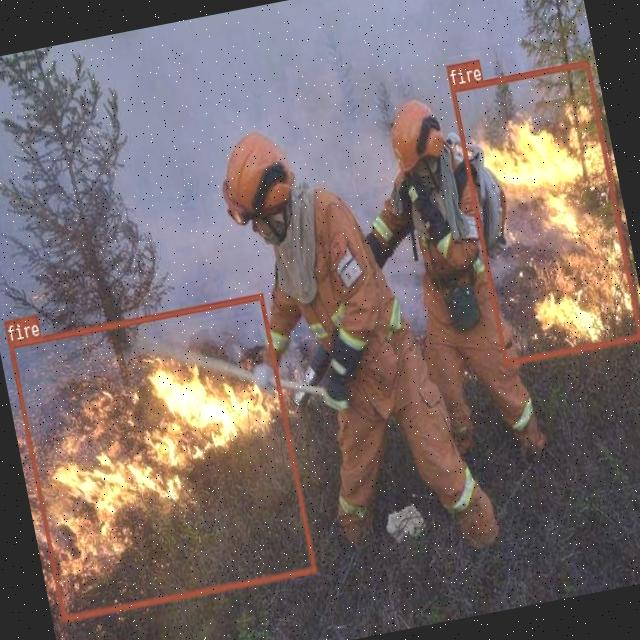fire: (7, 292, 316, 620), (450, 59, 640, 365)
